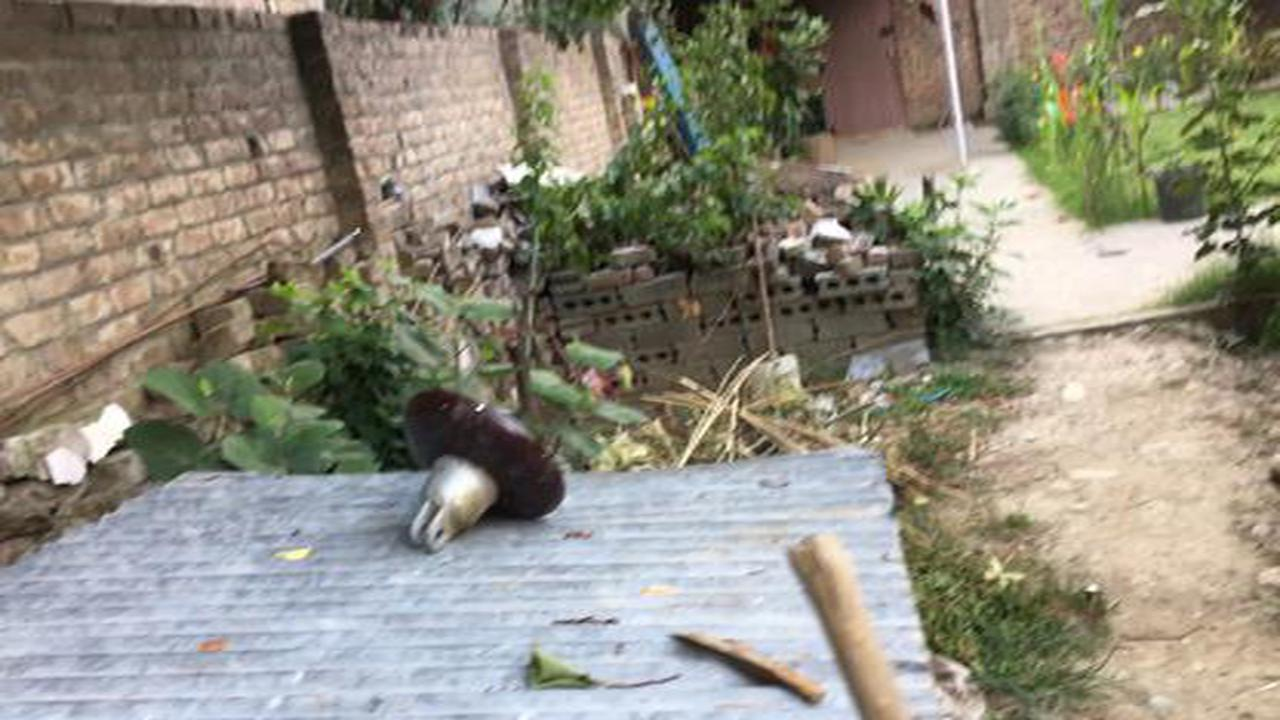insulator_disc: (396, 383, 572, 554)
